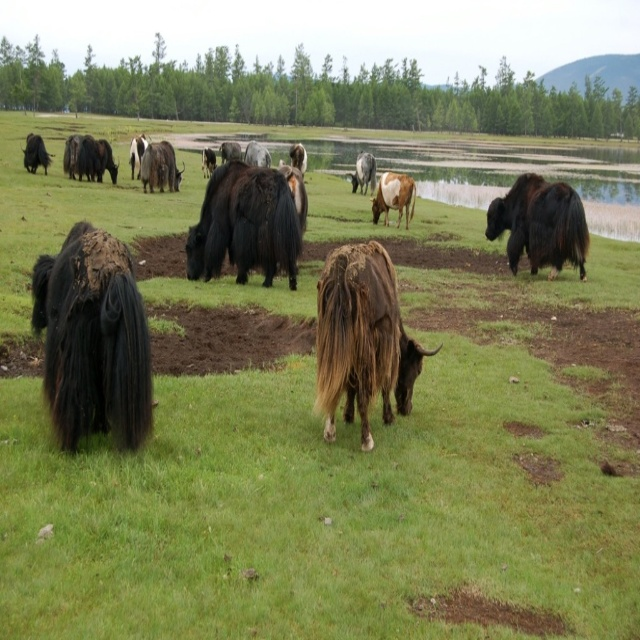Cattle: (21, 132, 417, 291), (31, 219, 156, 454), (314, 240, 443, 451), (486, 173, 591, 283)
